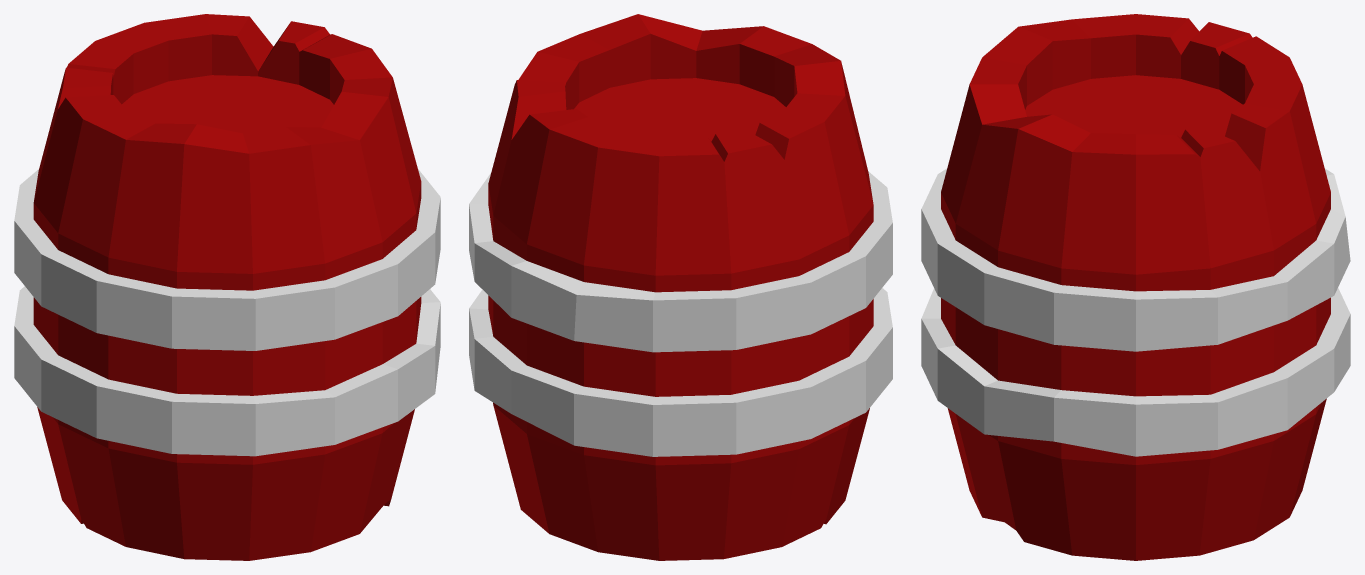
The model's file is ExplosiveBarrelGCGD – .fbx.
3 renders of one model, left to right at view 1: azimuth 30°, elevation 25°; view 2: azimuth 150°, elevation 25°; view 3: azimuth 270°, elevation 25°, orthographic.
Visible parts, largest first — view 1: Cylinder; view 2: Cylinder; view 3: Cylinder.
Part boxes in pixels (bbox=[...]): Cylinder: bbox=[14, 14, 440, 560]; Cylinder: bbox=[469, 14, 892, 560]; Cylinder: bbox=[921, 14, 1350, 560].
Size of the model in its own units: 268 by 285 by 268.
